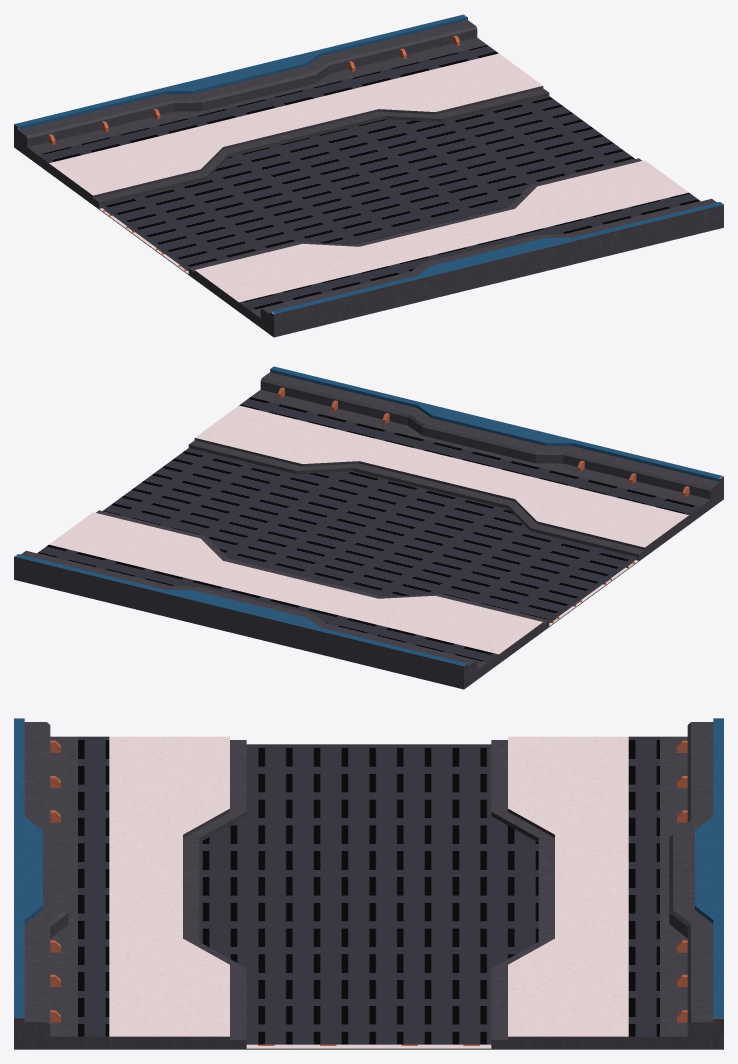
Rendered from Path_Straight_Lattice.glb.
The picture shows the model from 3 angles, top to bottom: view 1: azimuth 30°, elevation 25°; view 2: azimuth 150°, elevation 25°; view 3: azimuth 270°, elevation 25°; orthographic projection. The views are drawn at different scales.
Visible parts, largest first — view 1: Floor_Straight_Lattice; view 2: Floor_Straight_Lattice; view 3: Floor_Straight_Lattice.
Boxes of the visible parts, x1=… form: Floor_Straight_Lattice: x1=14, y1=14, x2=723, y2=337; Floor_Straight_Lattice: x1=14, y1=366, x2=723, y2=689; Floor_Straight_Lattice: x1=14, y1=718, x2=723, y2=1049.
Bounding box in the file's own units: 4 × 0.1961 × 4.
2 materials, 2 textured.
